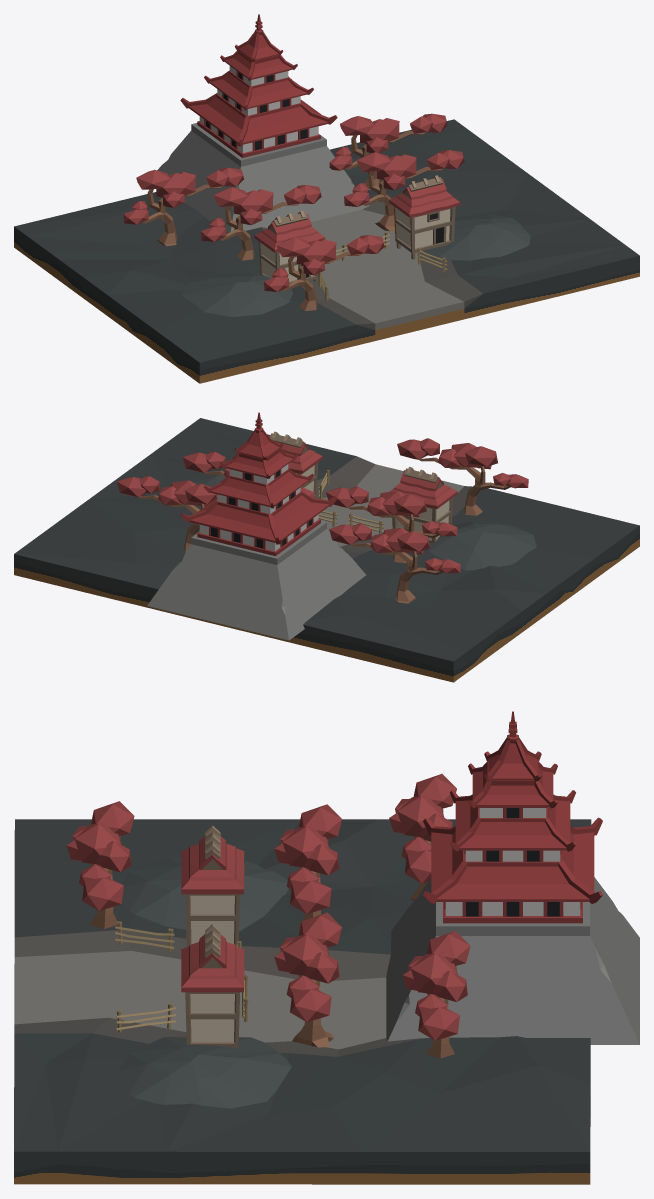
File: background.glb
3 views of the same model, one above another, from view 1: azimuth 30°, elevation 25°; view 2: azimuth 150°, elevation 25°; view 3: azimuth 270°, elevation 25° (orthographic). The views are drawn at different scales.
Parts seen in each view (by area): view 1: SM_Tile_Cube_Path_01, SM_Bld_Samurai_Temple_02, SM_Bld_Samurai_House_02.001, SM_Env_Generic_Grass_Blob_01, SM_Env_Samurai_Tree_01.001, SM_Env_Samurai_Tree_01.003, SM_Env_Generic_Grass_Blob_01.001, SM_Env_Samurai_Tree_01.004, SM_Env_Samurai_Tree_01, SM_Env_Samurai_Tree_01.002, SM_Bld_Samurai_House_02; view 2: SM_Tile_Cube_Path_01, SM_Bld_Samurai_Temple_02, SM_Env_Generic_Grass_Blob_01, SM_Env_Samurai_Tree_01.001, SM_Env_Samurai_Tree_01.004, SM_Env_Samurai_Tree_01, SM_Bld_Samurai_House_02, SM_Env_Samurai_Tree_01.002, SM_Bld_Samurai_House_02.001, SM_Env_Samurai_Tree_01.003; view 3: SM_Tile_Cube_Path_01, SM_Bld_Samurai_Temple_02, SM_Env_Generic_Grass_Blob_01.001, SM_Bld_Samurai_House_02.001, SM_Bld_Samurai_House_02, SM_Env_Generic_Grass_Blob_01, SM_Env_Samurai_Tree_01.003, SM_Env_Samurai_Tree_01.004, SM_Env_Samurai_Tree_01.002, SM_Env_Samurai_Tree_01, SM_Env_Samurai_Tree_01.001, SM_Prop_Samurai_Fence_01.003 (+1 smaller).
Boxes of the visible parts, x1,y1,x2,y2 form: SM_Tile_Cube_Path_01: (14, 119, 639, 383); SM_Bld_Samurai_Temple_02: (157, 14, 369, 232); SM_Bld_Samurai_House_02.001: (389, 175, 460, 259); SM_Env_Generic_Grass_Blob_01: (181, 271, 292, 316); SM_Env_Samurai_Tree_01.001: (123, 167, 244, 246); SM_Env_Samurai_Tree_01.003: (344, 150, 464, 231); SM_Env_Generic_Grass_Blob_01.001: (422, 214, 530, 260); SM_Env_Samurai_Tree_01.004: (264, 235, 384, 310); SM_Env_Samurai_Tree_01: (201, 185, 321, 260); SM_Env_Samurai_Tree_01.002: (329, 113, 447, 189); SM_Bld_Samurai_House_02: (254, 210, 325, 283); SM_Tile_Cube_Path_01: (14, 418, 639, 682); SM_Bld_Samurai_Temple_02: (147, 412, 365, 640); SM_Env_Generic_Grass_Blob_01: (427, 521, 536, 570); SM_Env_Samurai_Tree_01.001: (329, 523, 460, 603); SM_Env_Samurai_Tree_01.004: (397, 438, 528, 515); SM_Env_Samurai_Tree_01: (326, 486, 457, 563); SM_Bld_Samurai_House_02: (389, 466, 457, 542); SM_Env_Samurai_Tree_01.002: (117, 476, 217, 551); SM_Bld_Samurai_House_02.001: (268, 431, 322, 498); SM_Env_Samurai_Tree_01.003: (183, 451, 314, 497); SM_Tile_Cube_Path_01: (14, 819, 591, 1184); SM_Bld_Samurai_Temple_02: (386, 711, 639, 1044); SM_Env_Generic_Grass_Blob_01.001: (117, 1037, 291, 1108); SM_Bld_Samurai_House_02.001: (181, 924, 244, 1048); SM_Bld_Samurai_House_02: (181, 825, 244, 946); SM_Env_Generic_Grass_Blob_01: (120, 857, 288, 931); SM_Env_Samurai_Tree_01.003: (274, 912, 342, 1047); SM_Env_Samurai_Tree_01.004: (66, 801, 134, 928); SM_Env_Samurai_Tree_01.002: (402, 931, 470, 1058); SM_Env_Samurai_Tree_01: (274, 804, 342, 927); SM_Env_Samurai_Tree_01.001: (389, 774, 456, 900); SM_Prop_Samurai_Fence_01.003: (116, 1003, 175, 1032).
Bounding box in the file's own units: 9.44 × 4.06 × 7.51.
Materials: 14 (14 with a texture image).
